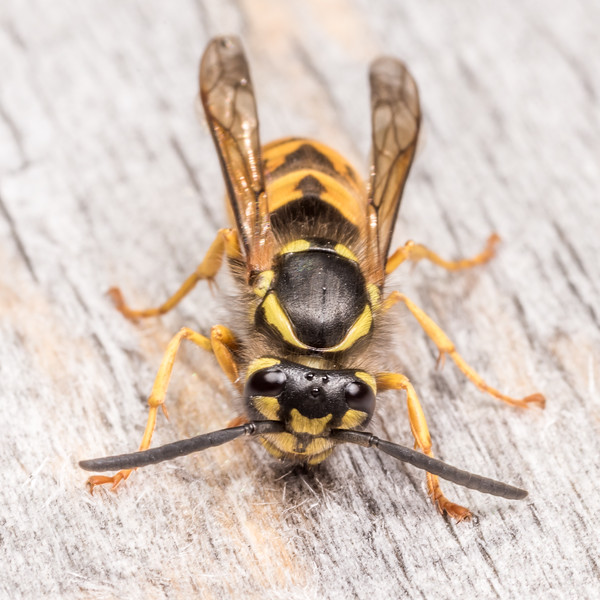chax: (81, 29, 552, 541)
